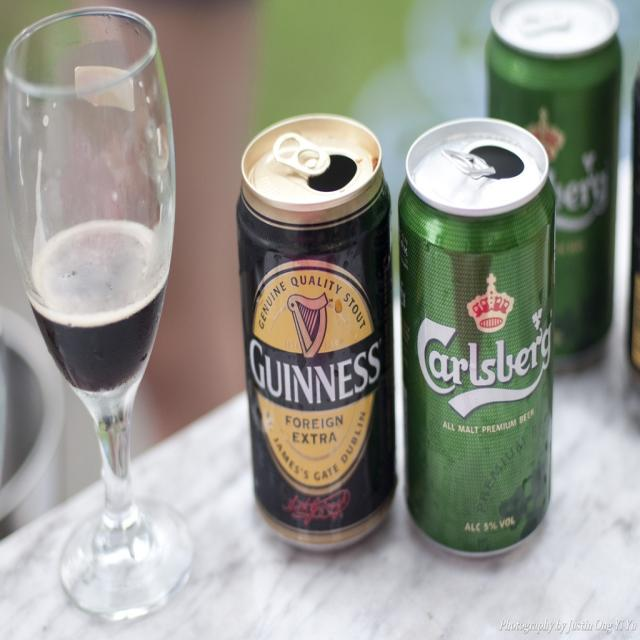carlsberg: (414, 273, 556, 425), (528, 95, 617, 237)
